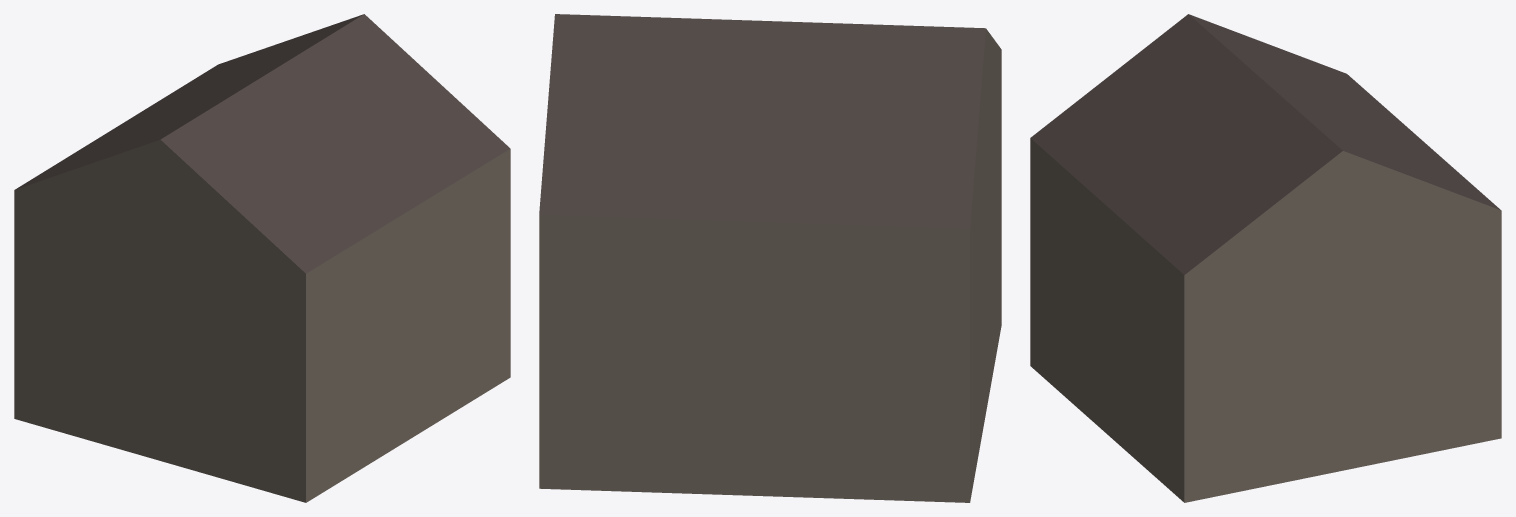
3 renders of one model, left to right at view 1: azimuth 30°, elevation 25°; view 2: azimuth 150°, elevation 25°; view 3: azimuth 270°, elevation 25°, orthographic. The views are drawn at different scales.
Parts seen in each view (by area): view 1: HP-w859424134; view 2: HP-w859424134; view 3: HP-w859424134.
Boxes of the visible parts, x1,y1,x2,y2 form: HP-w859424134: (14,14,510,502); HP-w859424134: (539,14,1001,502); HP-w859424134: (1030,14,1501,502).
Size of the model in its own units: 11.38 by 8.43 by 11.25.
